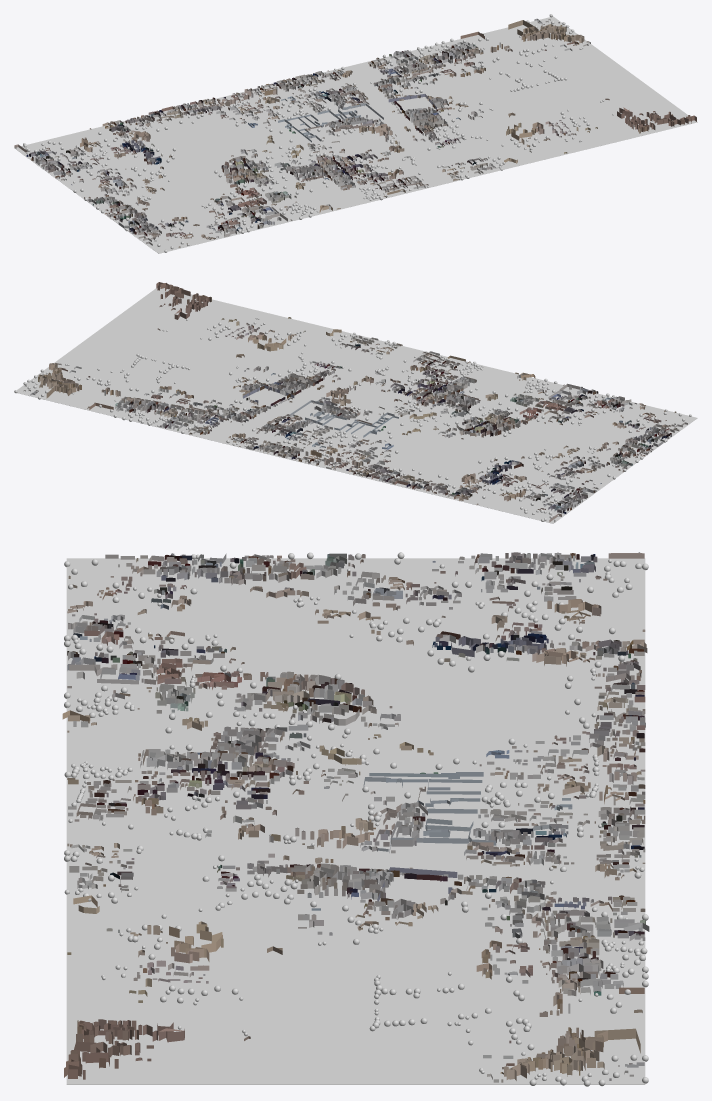
The picture shows the model from 3 angles, top to bottom: view 1: azimuth 30°, elevation 25°; view 2: azimuth 150°, elevation 25°; view 3: azimuth 270°, elevation 25°; orthographic projection. The views are drawn at different scales.
Parts seen in each view (by area): view 1: Ground_Base; view 2: Ground_Base; view 3: Ground_Base.
Part boxes in pixels (x1=…): Ground_Base: x1=14, y1=16, x2=697, y2=253; Ground_Base: x1=17, y1=287, x2=697, y2=523; Ground_Base: x1=66, y1=558, x2=645, y2=1084.
Bounding box in the file's own units: 2219 × 30.58 × 1040.
